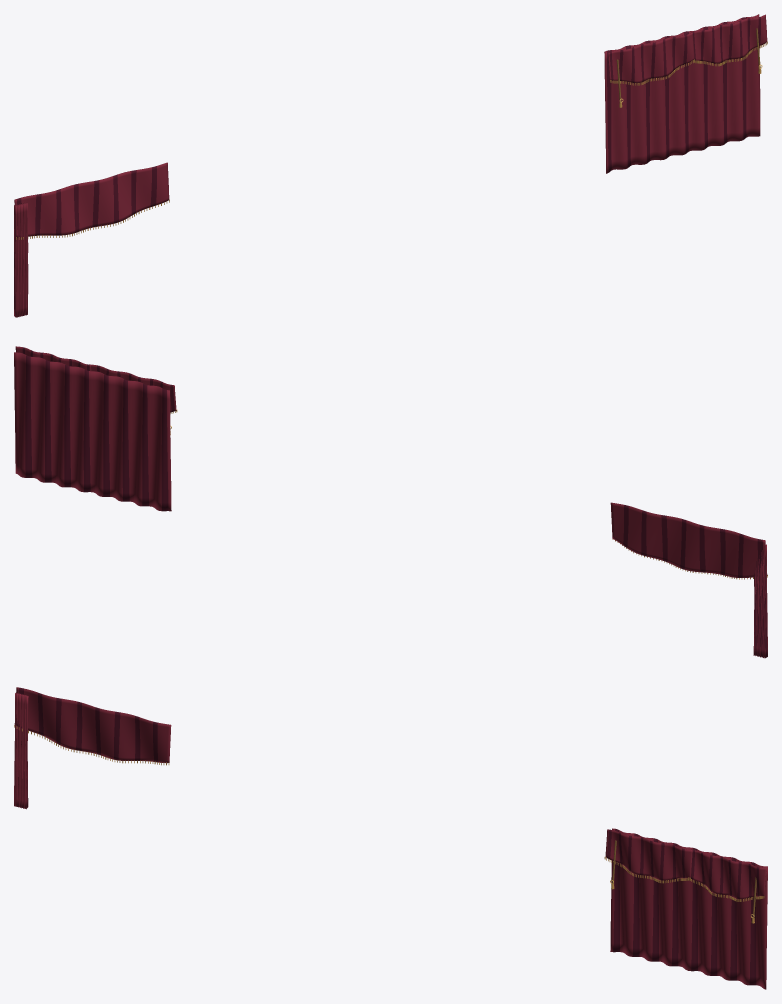
Rendered from SM_Vault_Drapery.fbx.
The picture shows the model from 3 angles, top to bottom: view 1: azimuth 30°, elevation 25°; view 2: azimuth 150°, elevation 25°; view 3: azimuth 330°, elevation 25°; orthographic projection.
Parts seen in each view (by area): view 1: SM_Vault_Drapery; view 2: SM_Vault_Drapery; view 3: SM_Vault_Drapery.
Boxes of the visible parts, x1,y1,x2,y2 form: SM_Vault_Drapery: (14, 14, 767, 317); SM_Vault_Drapery: (14, 346, 767, 658); SM_Vault_Drapery: (14, 687, 767, 989).
Bounding box in the file's own units: 3815 × 88.6 × 599.
